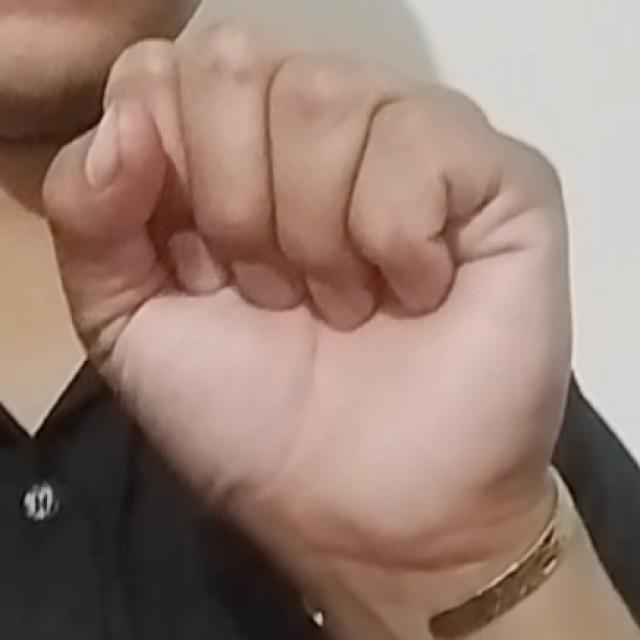S: (30, 13, 585, 587)
